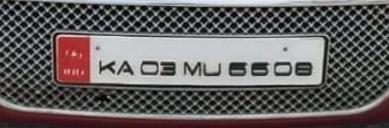0: (272, 57, 295, 80), (140, 58, 160, 78)
3: (159, 58, 179, 80)
6: (250, 56, 271, 81), (228, 58, 249, 80)
8: (293, 56, 314, 79)
A: (116, 55, 136, 80)
K: (97, 55, 116, 76)
M: (182, 58, 202, 79)
U: (202, 57, 224, 79)
